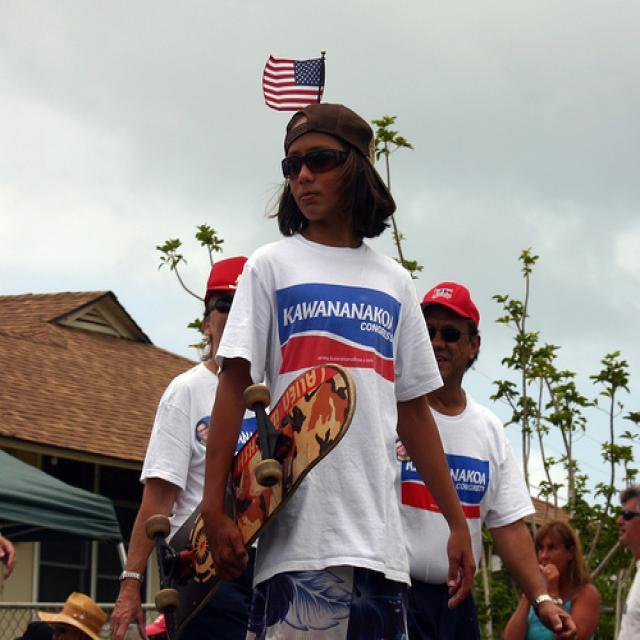non-dog: (191, 102, 479, 639), (389, 282, 580, 638), (114, 255, 254, 640), (501, 520, 602, 640), (20, 592, 115, 640), (612, 484, 640, 640)
